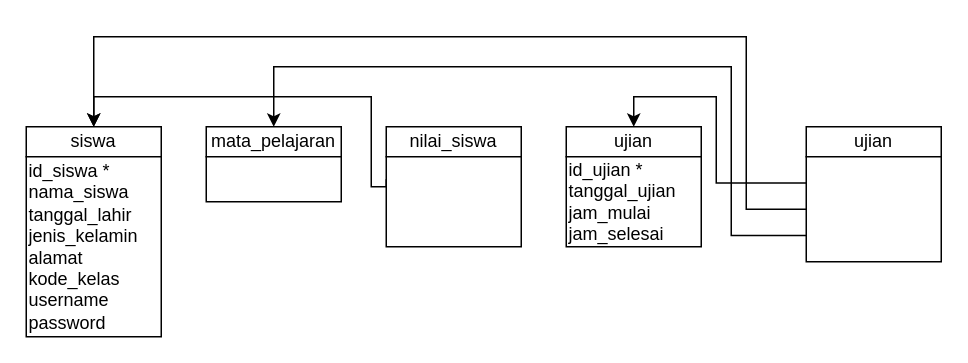
This 968x363 diagram has some shape labels left out. The shapes that lost their labels are listed below. From the top down, each one's centre as x and y in pixels, then its label:
At [273,178]: "id_mapel * nama_mapel".
At [453,201]: "id_nilai * id_siswa id_mapel nilai".
At [873,208]: "id_hasil_ujian * id_ujian id_siswa id_mapel nilai_ujian".
